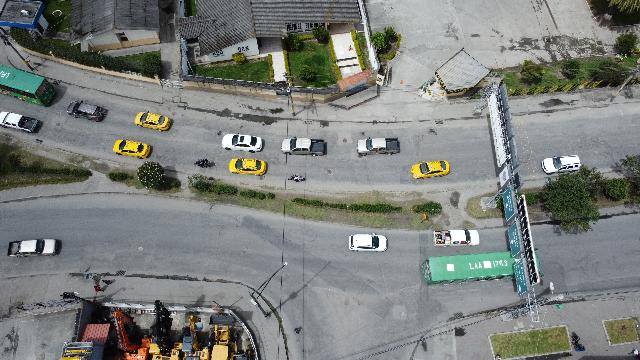Vehiculo: (6, 236, 59, 258), (66, 100, 108, 122), (282, 136, 326, 156), (432, 229, 480, 247), (222, 133, 264, 152), (356, 138, 399, 156), (113, 139, 151, 159), (0, 112, 38, 132), (348, 234, 388, 252), (135, 111, 171, 131), (411, 160, 449, 178), (229, 158, 267, 176), (542, 156, 580, 174)
